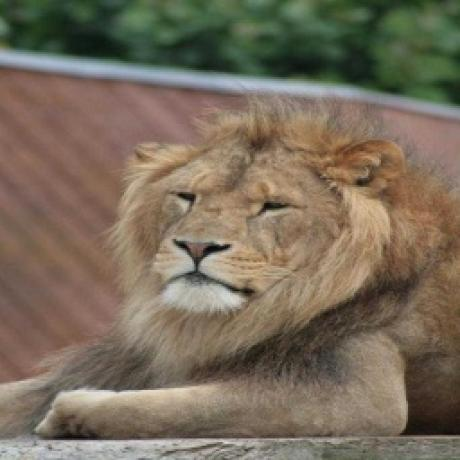Lion: (0, 94, 460, 440)
